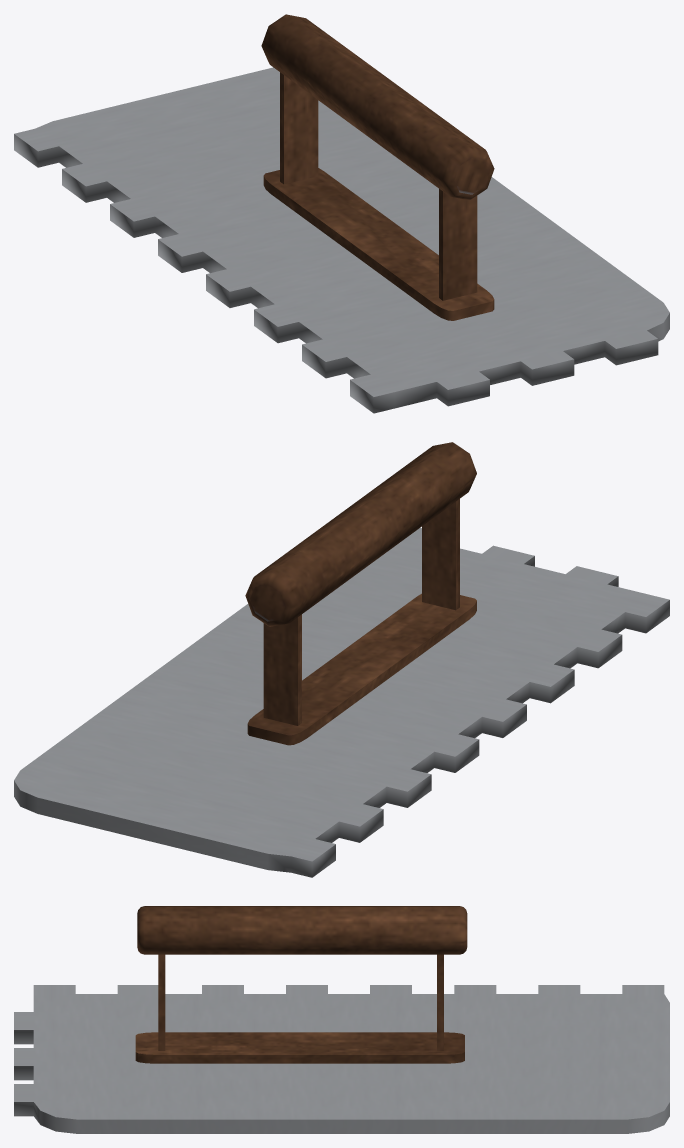
The model's file is trowel_3.fbx.
3 views of the same model, one above another, from view 1: azimuth 30°, elevation 25°; view 2: azimuth 150°, elevation 25°; view 3: azimuth 270°, elevation 25° (orthographic). The views are drawn at different scales.
Visible parts, largest first — view 1: Plane.001; view 2: Plane.001; view 3: Plane.001.
Boxes of the visible parts, x1,y1,x2,y2 form: Plane.001: (14, 14, 669, 413); Plane.001: (14, 442, 669, 877); Plane.001: (14, 906, 669, 1133).
Bounding box in the file's own units: 0.1002 × 0.0555 × 0.2066.
